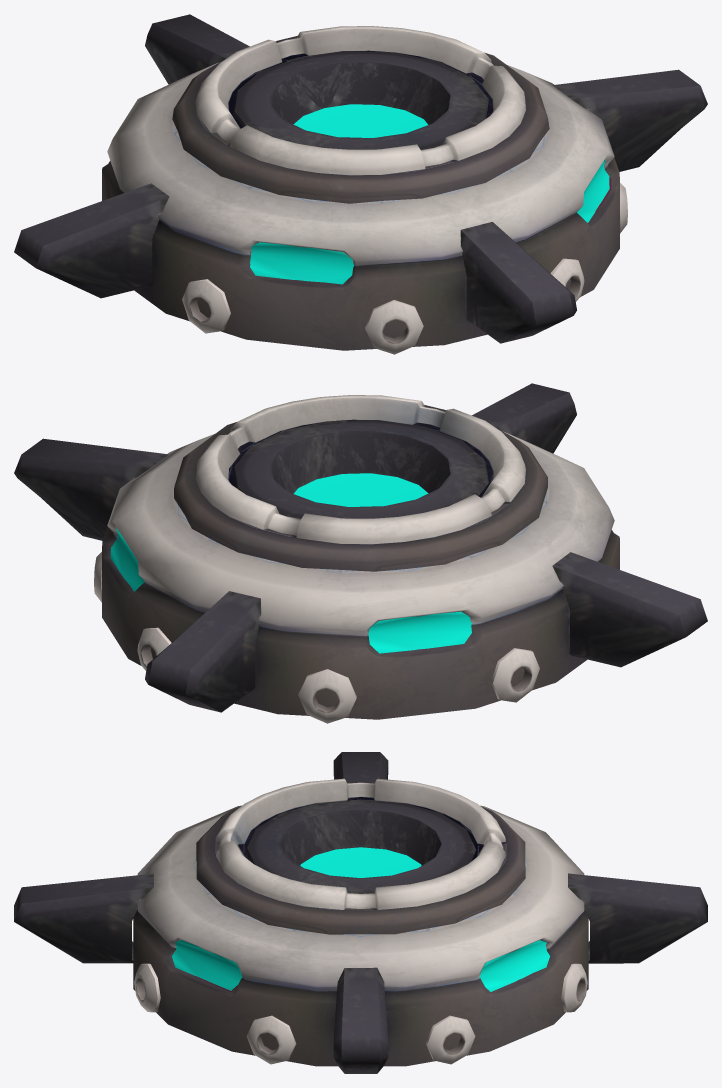
File: lanbo_xianjing.FBX
3 renders of one model, top to bottom at view 1: azimuth 30°, elevation 25°; view 2: azimuth 150°, elevation 25°; view 3: azimuth 270°, elevation 25°, orthographic. The views are drawn at different scales.
Parts seen in each view (by area): view 1: lanbo_xianjing, pao_005, pao_004, pao_006; view 2: lanbo_xianjing, pao_002, pao_003, pao_001; view 3: lanbo_xianjing, pao_007, pao_008, pao_006, pao_001.
Part boxes in pixels (x1,y1,x2,y2): lanbo_xianjing: (14, 14, 707, 350); pao_005: (365, 300, 423, 354); pao_004: (182, 279, 230, 333); pao_006: (550, 258, 584, 301); lanbo_xianjing: (14, 383, 707, 719); pao_002: (298, 669, 356, 723); pao_003: (491, 648, 539, 702); pao_001: (137, 627, 171, 670); lanbo_xianjing: (14, 752, 707, 1073); pao_007: (246, 1015, 296, 1064); pao_008: (425, 1015, 475, 1064); pao_006: (134, 963, 160, 1012); pao_001: (561, 963, 587, 1012).
Size of the model in its own units: 0.7157 by 0.1601 by 0.7157.
